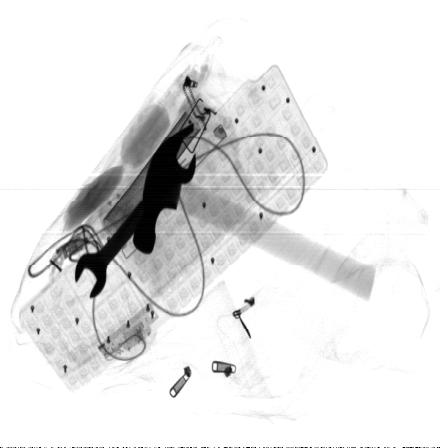Hammer: (134, 125, 376, 304)
Wrench: (74, 141, 197, 299)
